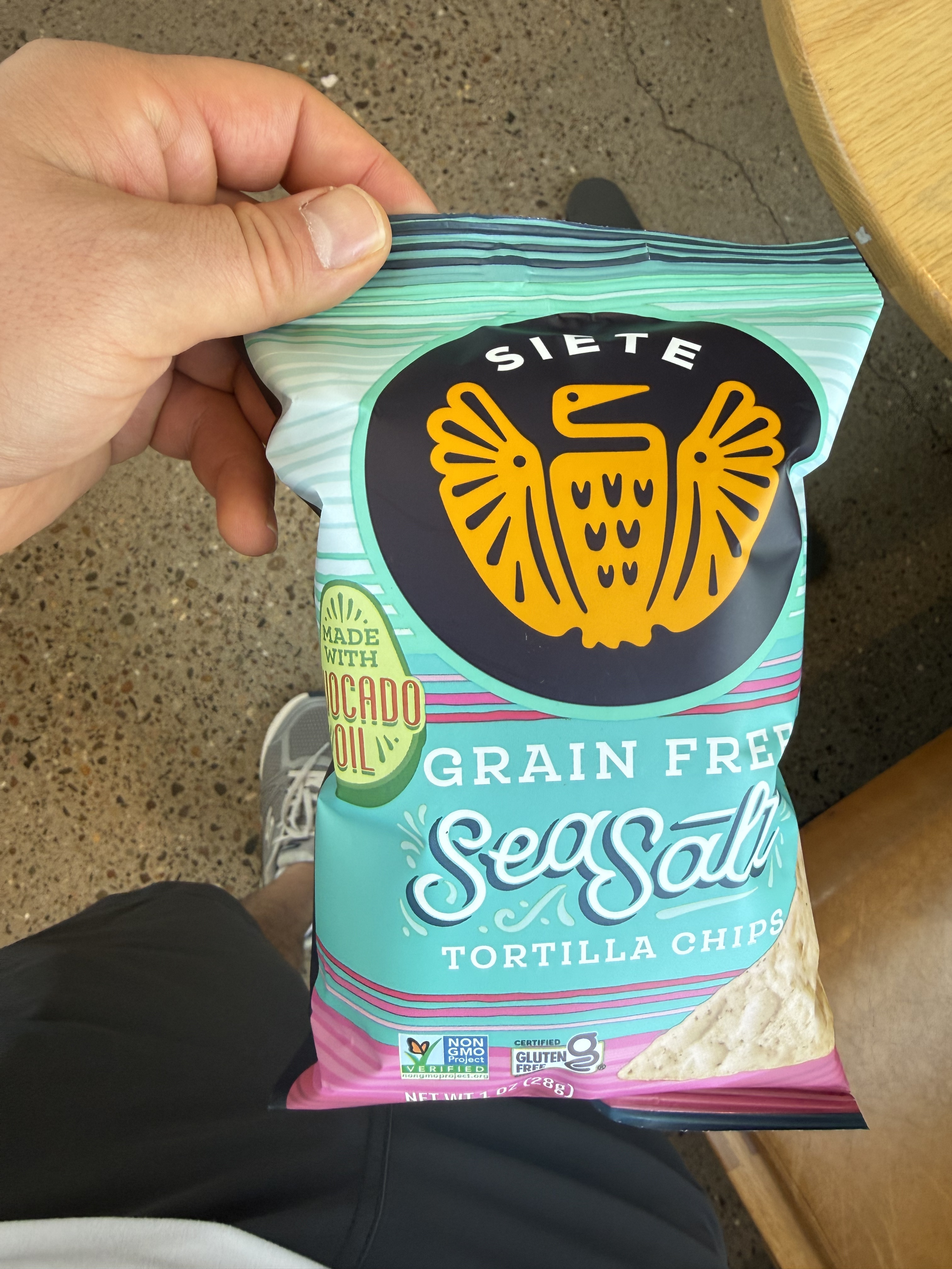sea_salt: (215, 167, 884, 1158)
